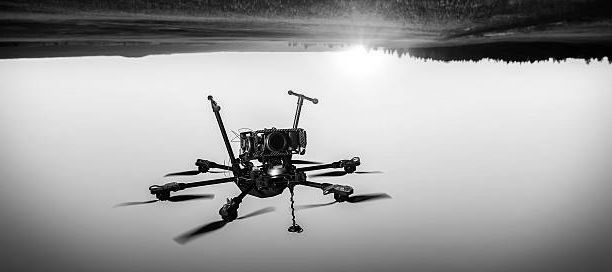Drone: (109, 87, 396, 247)
